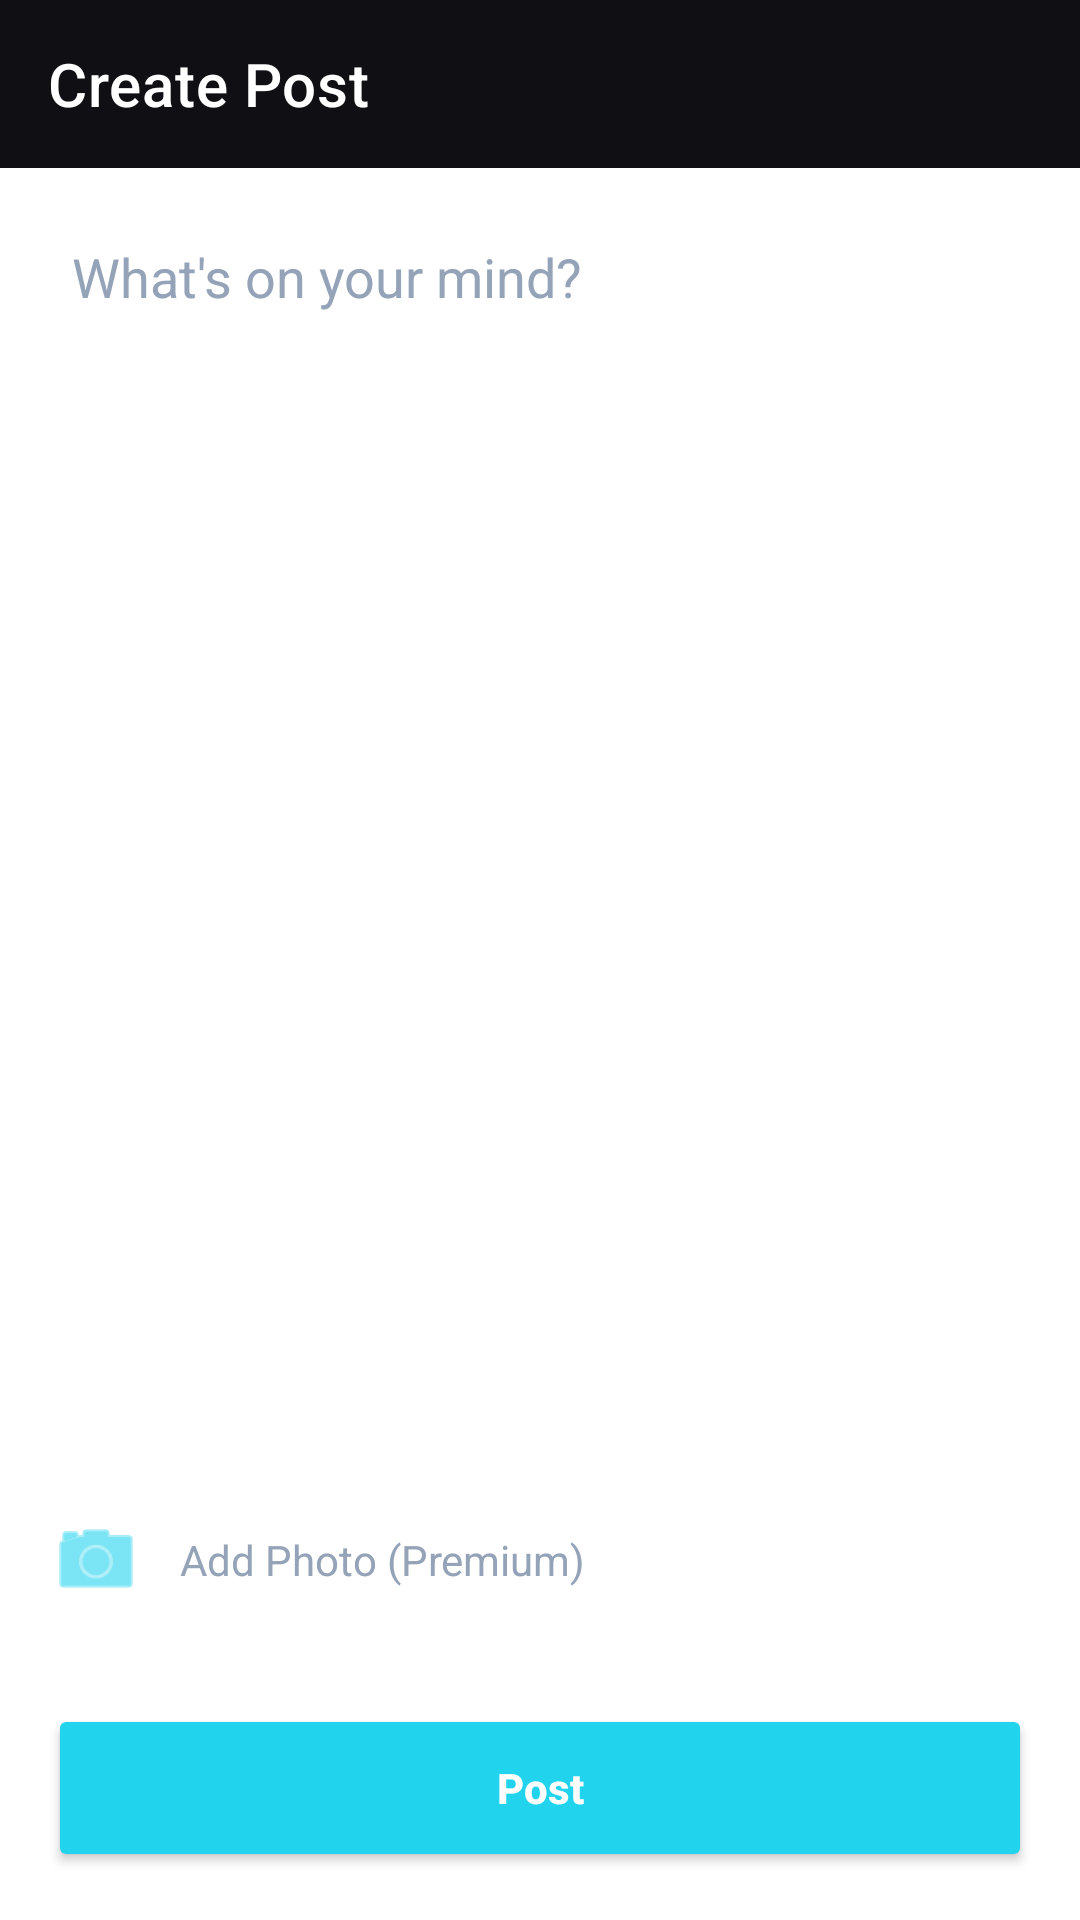

Named icons in this screenshot (1080px x 1920px) and their bounding boxes, [x1,y1,x2,y2]:
camera: [59,1529,133,1588]
